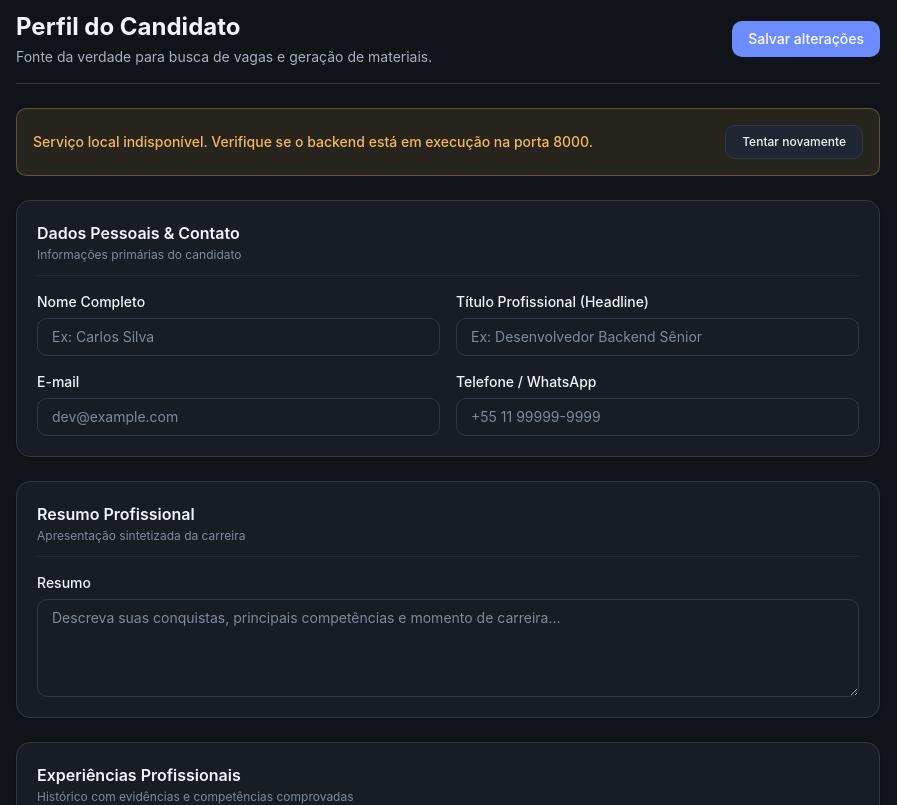
ProfileSection Component › shows friendly offline banner with retry button when service is unavailable and recovers on retry
Expected: the text "Serviço local indisponível. Verifique se o backend está em execução na porta 8000." is shown, [33,133,593,150]
Click the button "Tentar novamente".
click(794, 142)  # box [725,125,863,159]
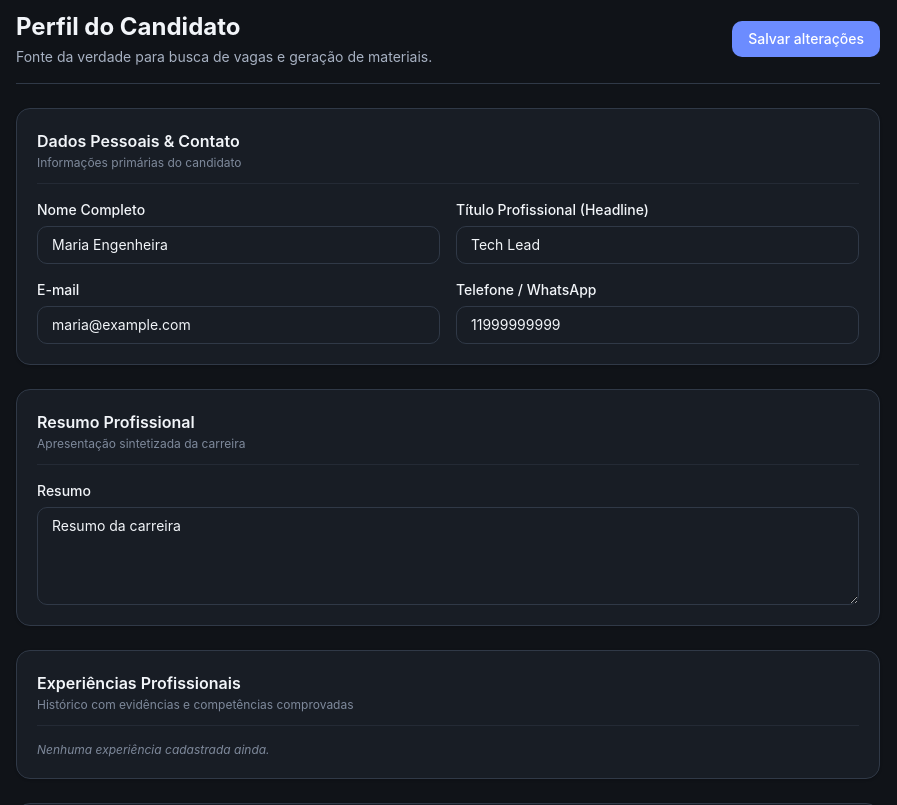
Expected: the field showing "Maria Engenheira" is shown, [37,226,440,264]
Expected: the text "Serviço local indisponível" is gone
